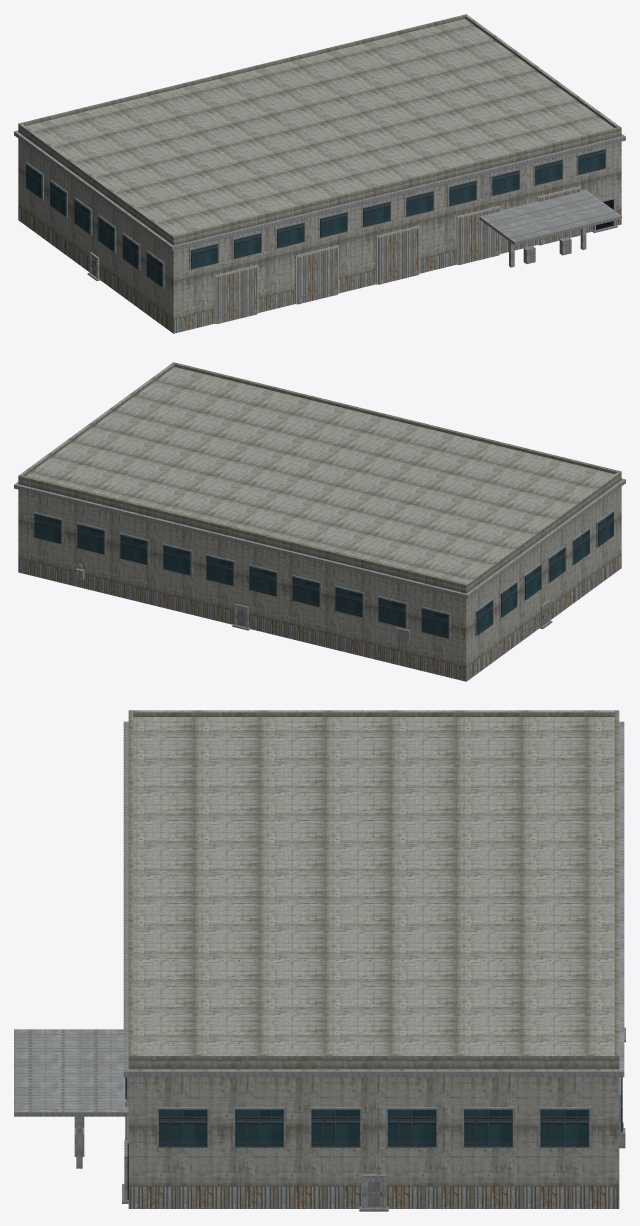
Rendered from ironport-truck-depot_lod0.gltf.
The picture shows the model from 3 angles, top to bottom: view 1: azimuth 30°, elevation 25°; view 2: azimuth 150°, elevation 25°; view 3: azimuth 270°, elevation 25°; orthographic projection. The views are drawn at different scales.
Parts seen in each view (by area): view 1: ironport-truck-depot_upper, ironport-truck-depot_fen_07-glass-curtain-blue_1, ironport-truck-depot_fen_21-corrugated-steel_3, ironport-truck-depot_base, ironport-truck-depot__fuel_canopy, ironport-truck-depot__cornice, ironport-truck-depot_fen_14-steel-panel_0, ironport-truck-depot__parapet_front, ironport-truck-depot__parapet_back, ironport-truck-depot_fen_15-concrete-boardformed_2, ironport-truck-depot__parapet_left, ironport-truck-depot__parapet_right; view 2: ironport-truck-depot_upper, ironport-truck-depot_fen_07-glass-curtain-blue_1, ironport-truck-depot_base, ironport-truck-depot__cornice, ironport-truck-depot_fen_14-steel-panel_0, ironport-truck-depot__parapet_back, ironport-truck-depot__parapet_front, ironport-truck-depot__parapet_left, ironport-truck-depot__parapet_right; view 3: ironport-truck-depot_upper, ironport-truck-depot_fen_07-glass-curtain-blue_1, ironport-truck-depot_base, ironport-truck-depot__fuel_canopy, ironport-truck-depot__cornice, ironport-truck-depot_fen_14-steel-panel_0, ironport-truck-depot__parapet_left, ironport-truck-depot__parapet_right, ironport-truck-depot__parapet_front, ironport-truck-depot__parapet_back.
Part boxes in pixels (x1,y1,x2,y2): ironport-truck-depot_upper: [18, 19, 621, 319]; ironport-truck-depot_fen_07-glass-curtain-blue_1: [26, 149, 605, 287]; ironport-truck-depot_fen_21-corrugated-steel_3: [216, 188, 580, 323]; ironport-truck-depot_base: [18, 206, 621, 333]; ironport-truck-depot__fuel_canopy: [479, 189, 621, 244]; ironport-truck-depot__cornice: [14, 130, 625, 250]; ironport-truck-depot_fen_14-steel-panel_0: [26, 147, 615, 323]; ironport-truck-depot__parapet_front: [172, 127, 621, 239]; ironport-truck-depot__parapet_back: [18, 14, 467, 126]; ironport-truck-depot_fen_15-concrete-boardformed_2: [214, 186, 580, 323]; ironport-truck-depot__parapet_left: [19, 124, 174, 238]; ironport-truck-depot__parapet_right: [465, 15, 619, 127]; ironport-truck-depot_upper: [18, 367, 621, 667]; ironport-truck-depot_fen_07-glass-curtain-blue_1: [34, 512, 613, 638]; ironport-truck-depot_base: [18, 554, 621, 681]; ironport-truck-depot__cornice: [14, 478, 625, 598]; ironport-truck-depot_fen_14-steel-panel_0: [33, 510, 613, 640]; ironport-truck-depot__parapet_back: [18, 475, 467, 587]; ironport-truck-depot__parapet_front: [172, 362, 621, 474]; ironport-truck-depot__parapet_left: [465, 472, 620, 586]; ironport-truck-depot__parapet_right: [20, 363, 174, 475]; ironport-truck-depot_upper: [128, 717, 619, 1186]; ironport-truck-depot_fen_07-glass-curtain-blue_1: [125, 1077, 622, 1147]; ironport-truck-depot_base: [128, 1186, 619, 1208]; ironport-truck-depot__fuel_canopy: [14, 1029, 128, 1116]; ironport-truck-depot__cornice: [123, 721, 624, 1077]; ironport-truck-depot_fen_14-steel-panel_0: [124, 1077, 625, 1208]; ironport-truck-depot__parapet_left: [133, 710, 614, 716]; ironport-truck-depot__parapet_right: [133, 1054, 614, 1060]; ironport-truck-depot__parapet_front: [128, 710, 133, 1060]; ironport-truck-depot__parapet_back: [614, 710, 619, 1060].
Size of the model in its own units: 50.8 by 10.3 by 37.4.
